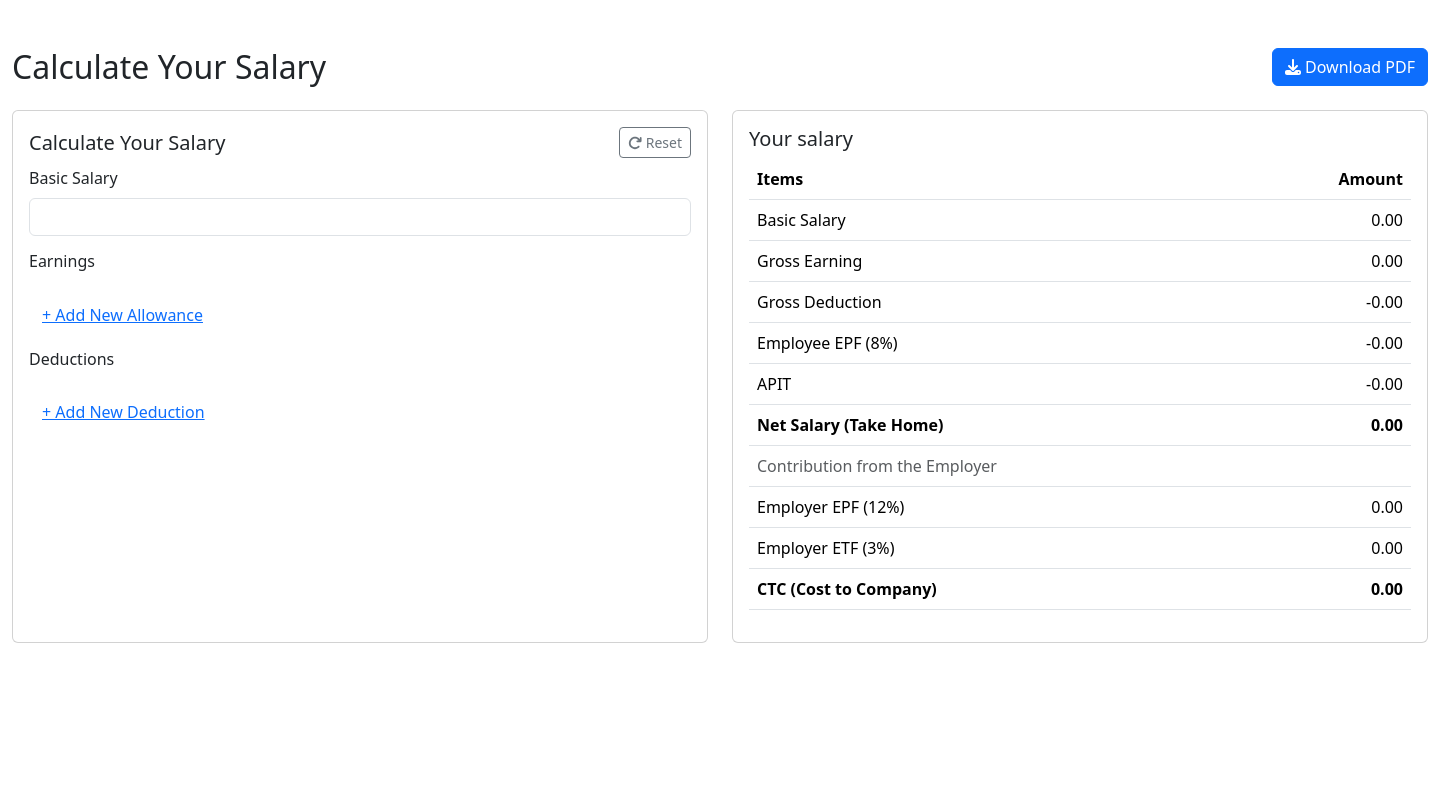
Test: App › adds a new earnings item
The width and height of the screenshot is (1440, 810).
Click the button "+ Add New Allowance". click: click(122, 315)
box: [29, 296, 691, 334]
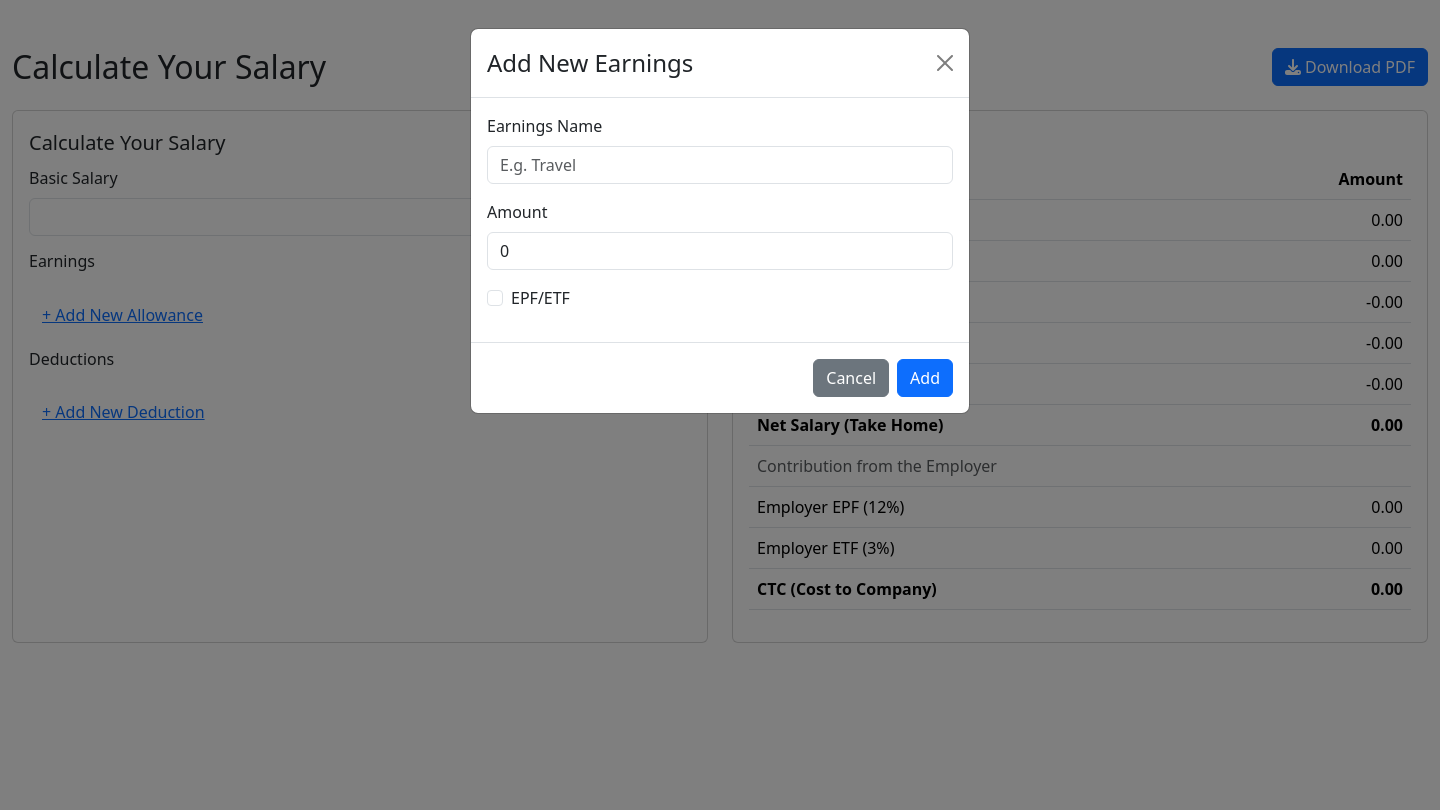
Now the text "Add New Earnings" is shown, box [487, 45, 693, 81]
Type "Bonus" into the field with placeholder "E.g. Travel". click: (720, 165)
box: [487, 146, 953, 184]
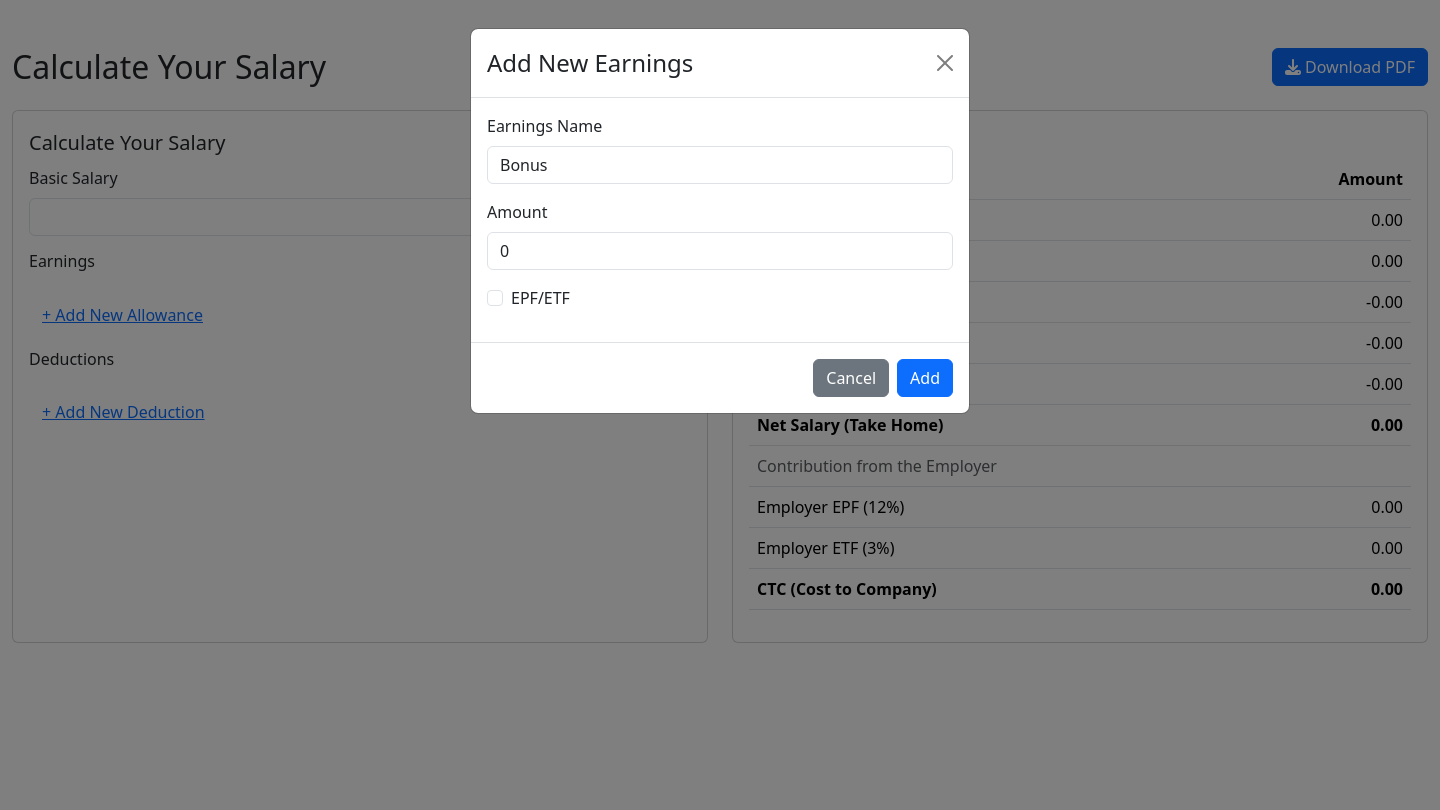
Replace the text in the number field with placeholder "E.g. 10000" with "5000". click: (720, 251)
box: [487, 232, 953, 270]
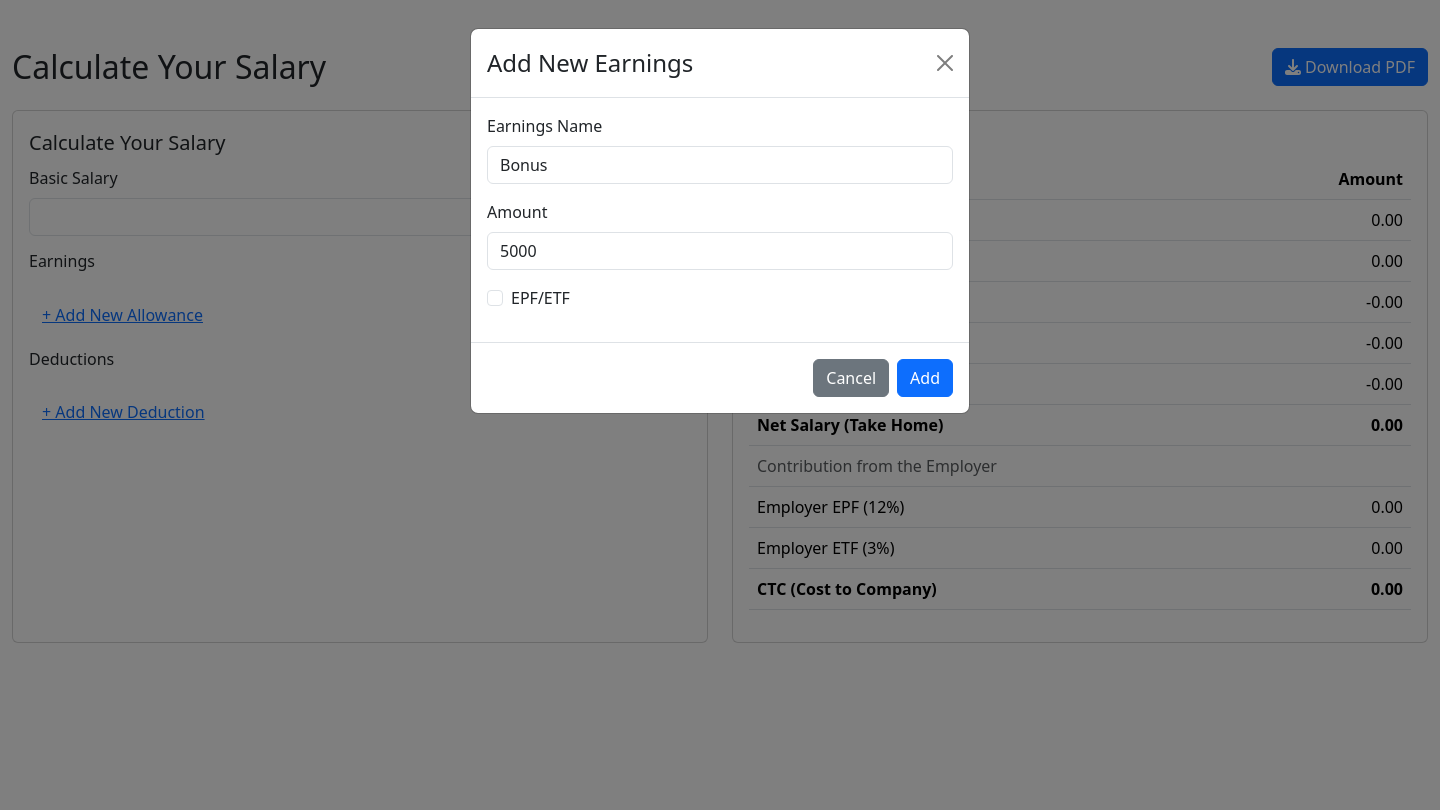
Click the button "Add". click: click(925, 378)
box: [897, 359, 953, 397]
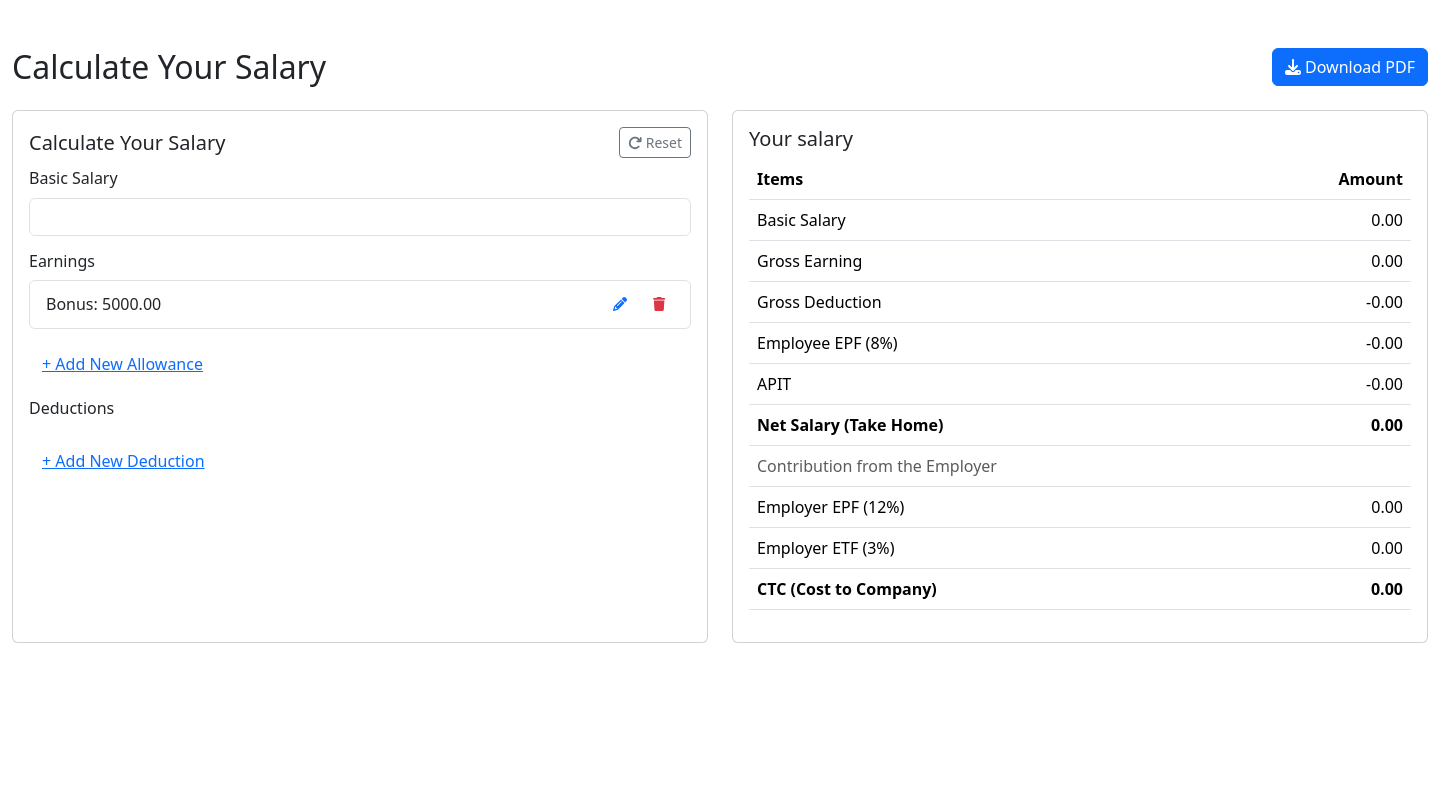
Now the text "Bonus: 5000.00" is shown, box [46, 292, 161, 316]
